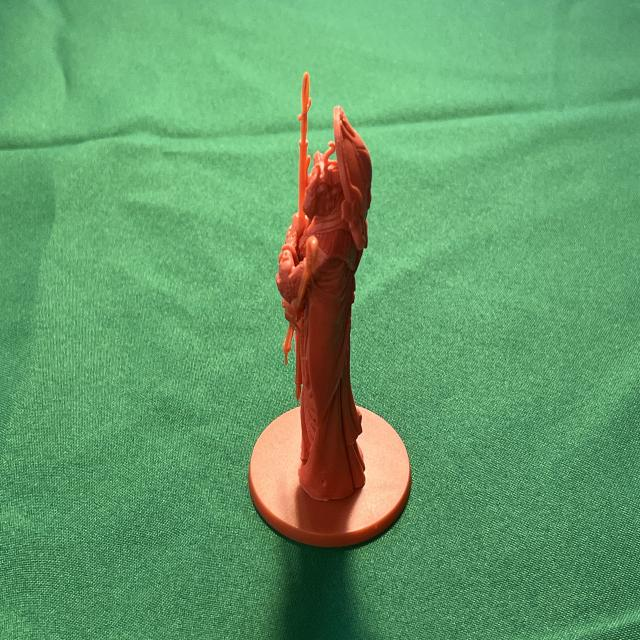amon: (244, 67, 417, 554)
